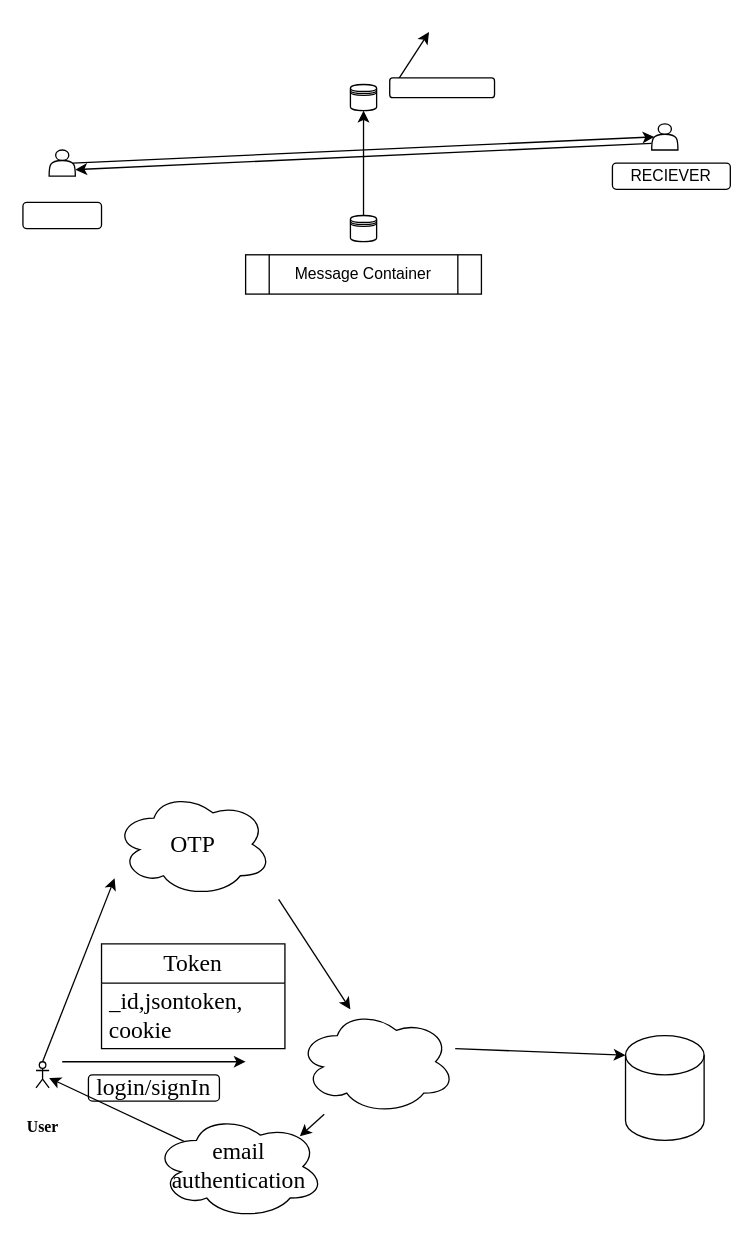
Some shapes in this 753 by 1242 pixel diagram are drawn without their labels. The shapes that lost their labels are listed below. From the top down, each one's centre as x and y in pixels, then its label:
At (x=441, y=87): "conversation".
At (x=62, y=215): "SENDER".
At (x=376, y=1061): "website".
